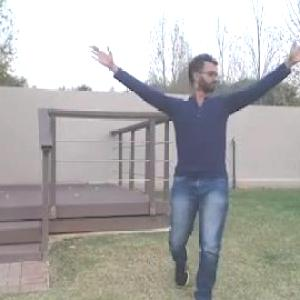takeoff: (73, 39, 300, 299)
